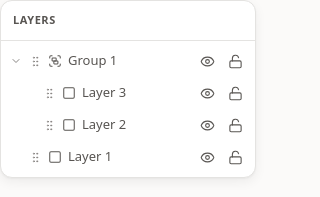
the tree › shows a member as hidden when its group is, without touching its own flag
Step 1. Click the button named "Hide Group 1" → (207, 61), box x1=193 y1=47 x2=221 y2=75
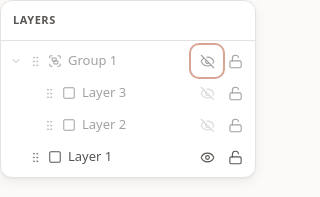
Expected: the button named "hidden by its group" is disabled, x1=193 y1=79 x2=221 y2=107
